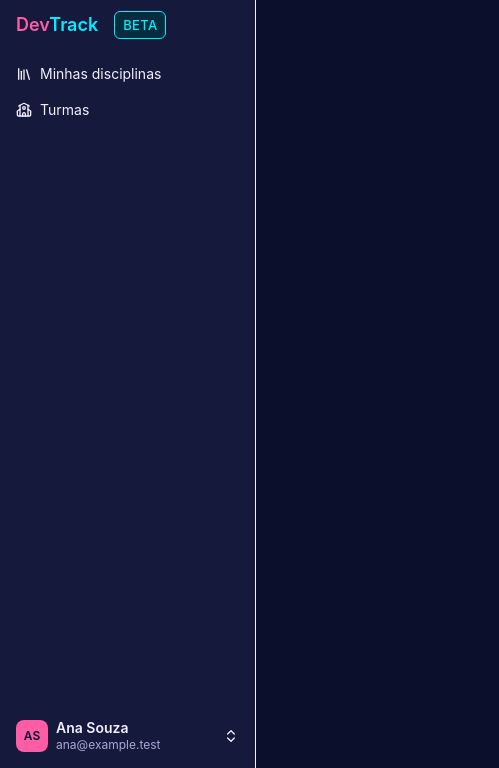
Scenario: AppSidebar (menu lateral das telas internas, UX only) › o menu da conta no rodapé mostra nome e e-mail e abre com Meu perfil e Sair
Expected: the menu item "Sair" is not shown
Click the button "AS Ana Souza ana@example.test" at coordinates (128, 736), box [8,712,247,760]
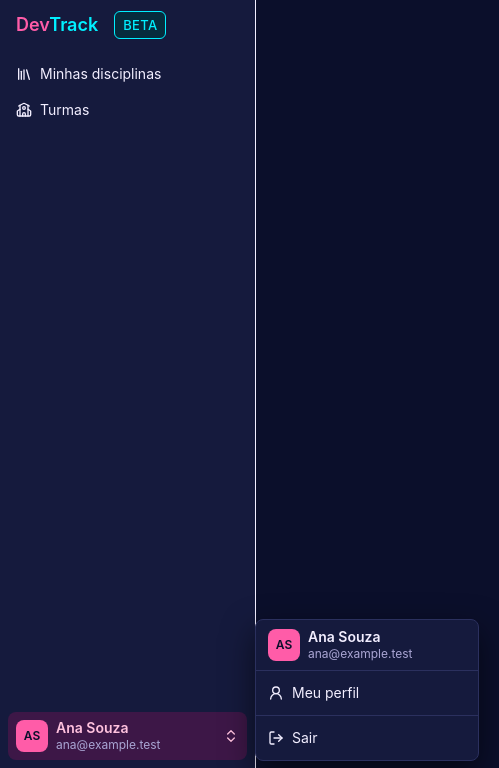
Expected: the menu item "Sair" is shown, [268,728,318,746]
